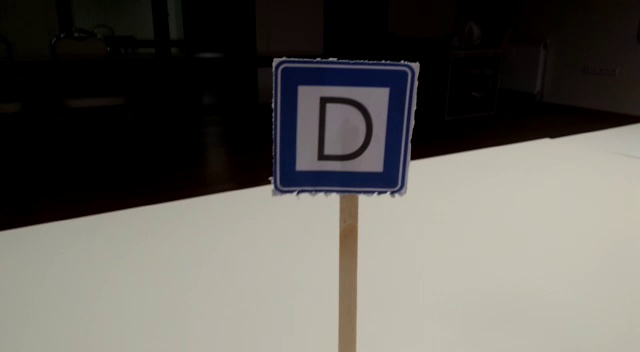durak: (272, 60, 419, 191)
